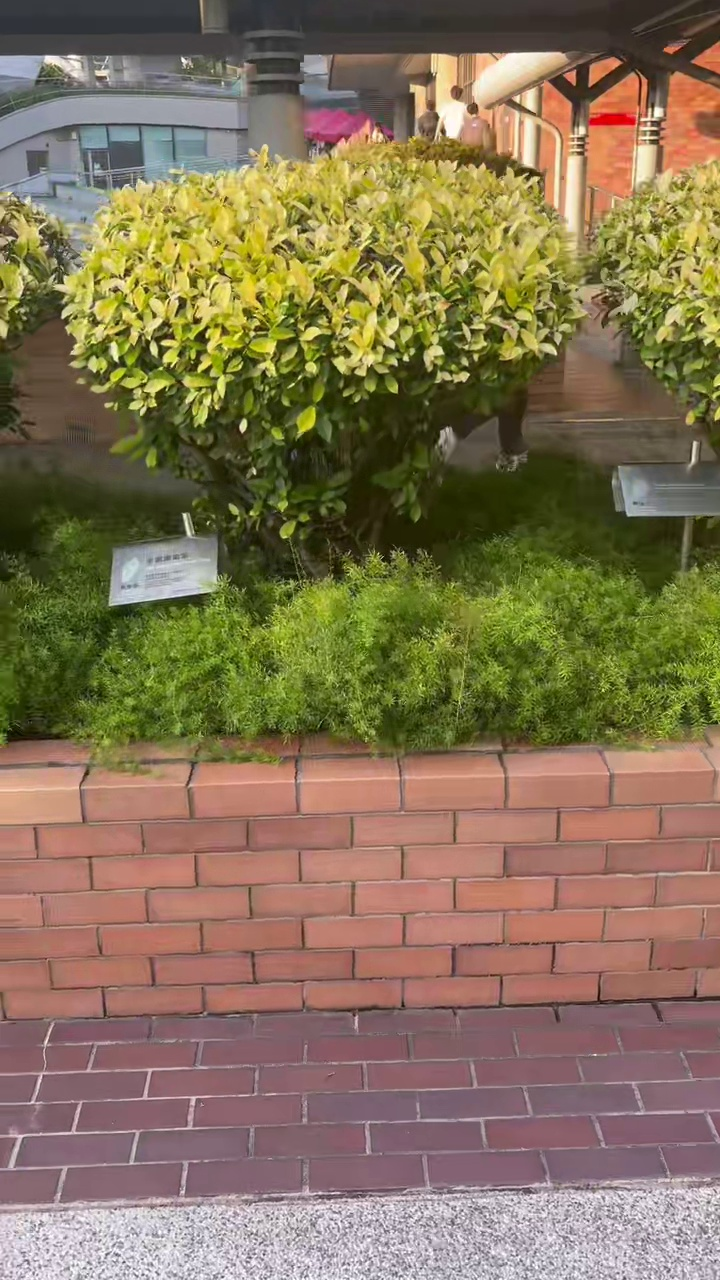Golden-leaves Fig: (63, 147, 580, 572)
